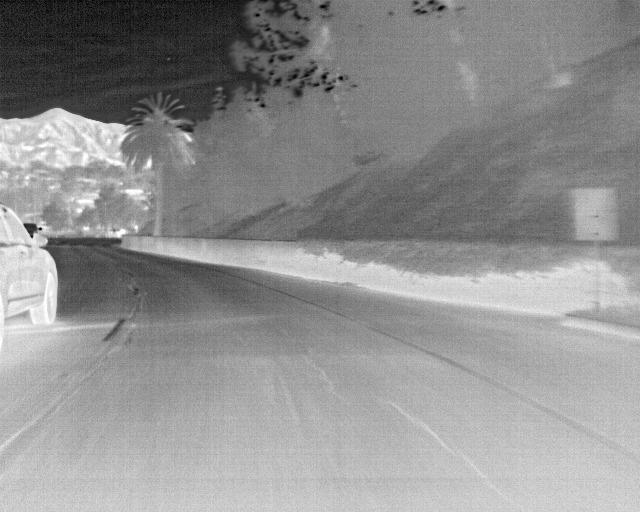car: (0, 204, 61, 326), (24, 224, 48, 248)
